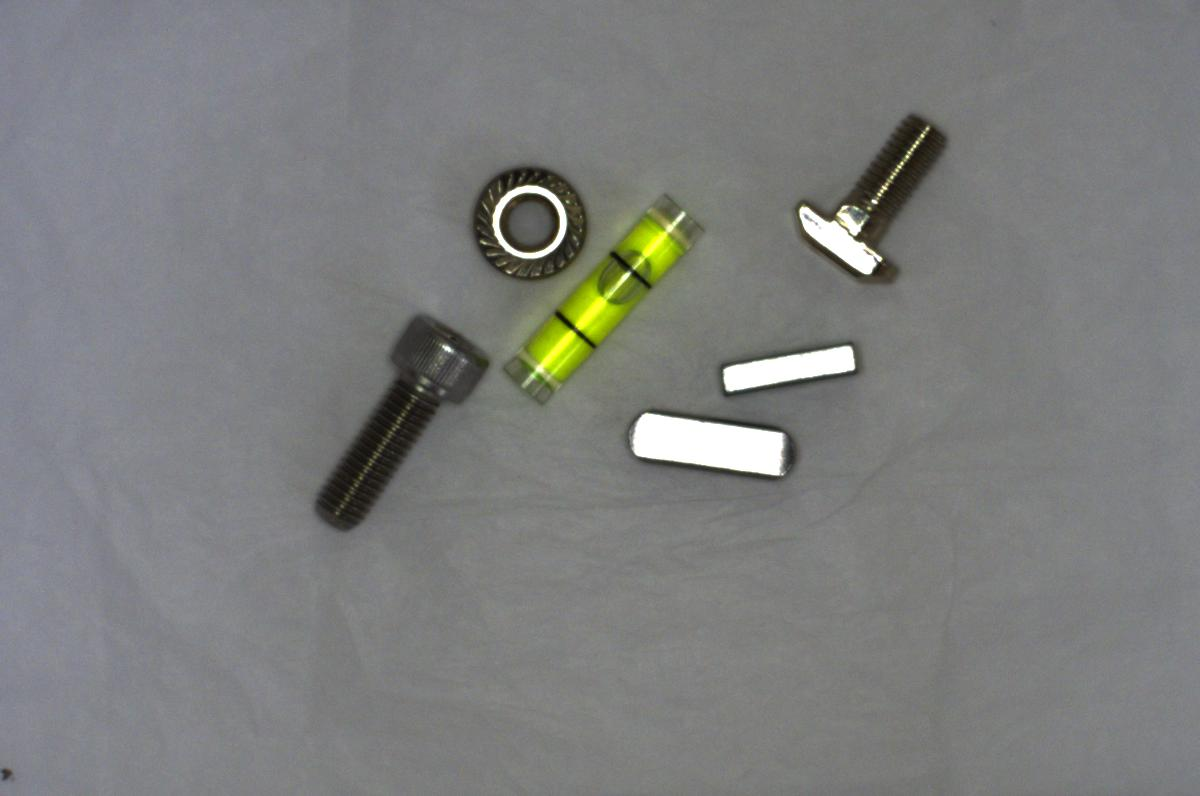Flange nut: (451, 148, 585, 285)
Hexagon screw: (292, 303, 491, 528)
Horizontal bubble: (493, 189, 707, 408)
Keybar: (625, 387, 800, 489)
Rectangular nut: (710, 333, 866, 404)
T-shaped screw: (792, 109, 941, 283)
